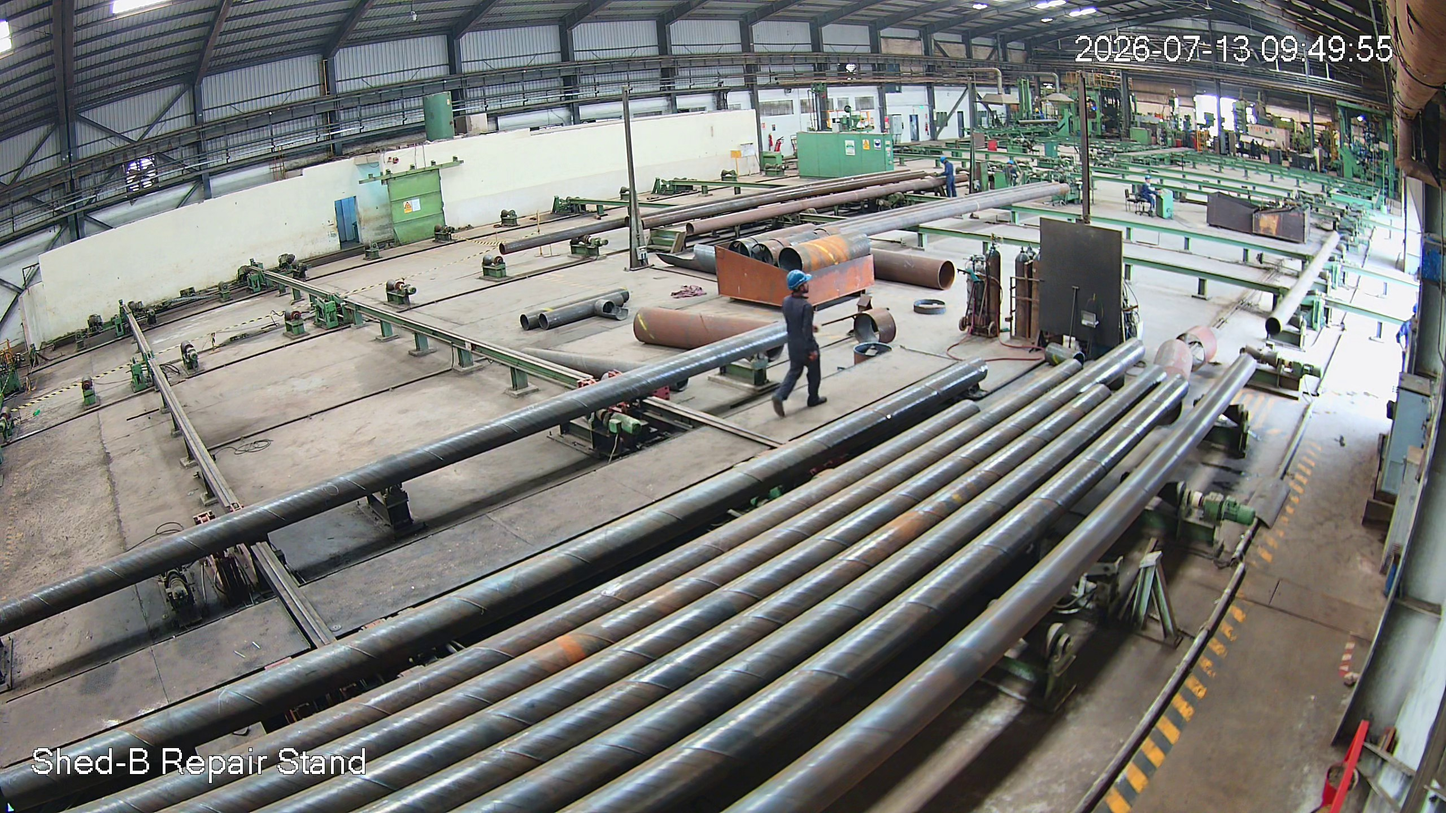Helmet: (784, 266, 818, 303)
Person: (768, 268, 827, 419)
